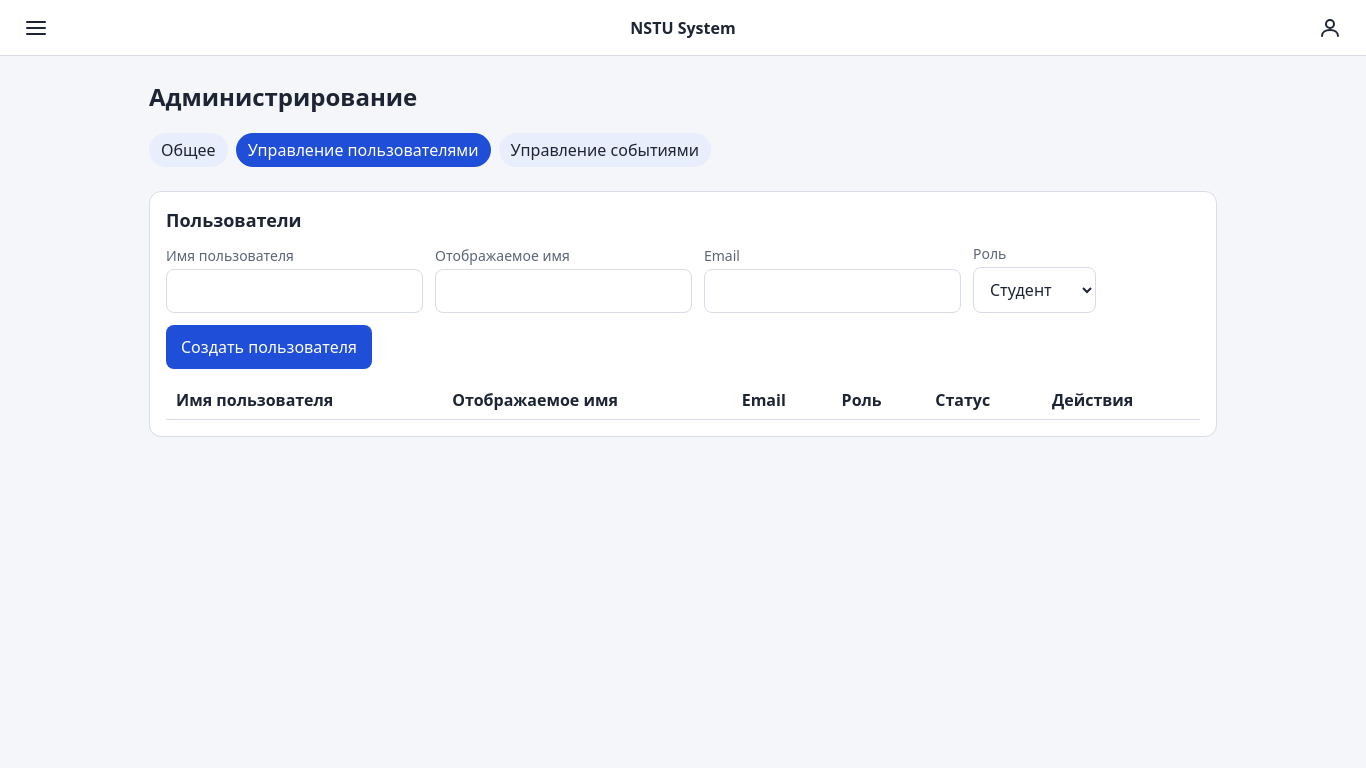
Test case: раздел «Администрирование» › создание пользователя показывает temporaryPassword один раз
Expected: the heading "Администрирование" is shown, [149,80,417,113]
Type "staff1" into the field labelled "Имя пользователя".
click(294, 291); type("staff1")  # box [166,269,423,313]
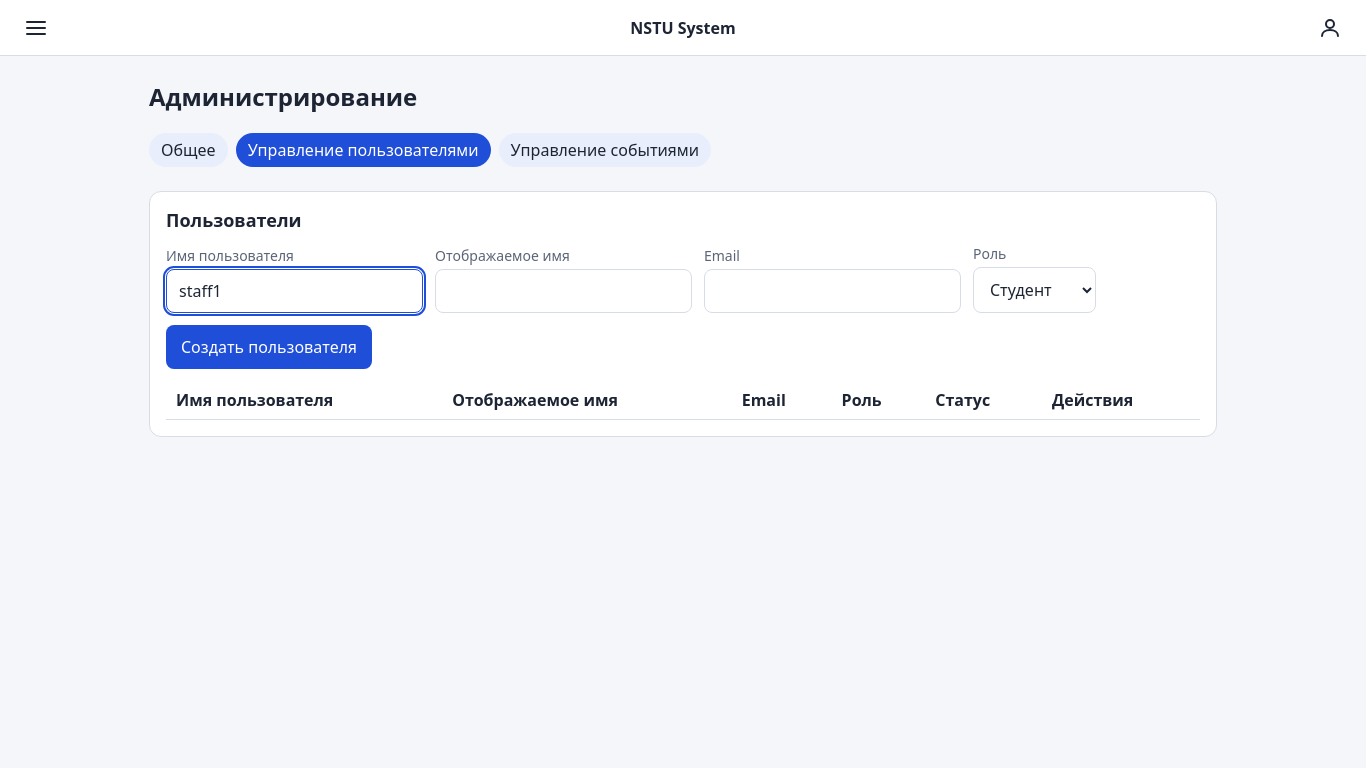
Type "Стафф Иванов" into the field labelled "Отображаемое имя".
click(564, 291); type("Стафф Иванов")  # box [435,269,692,313]
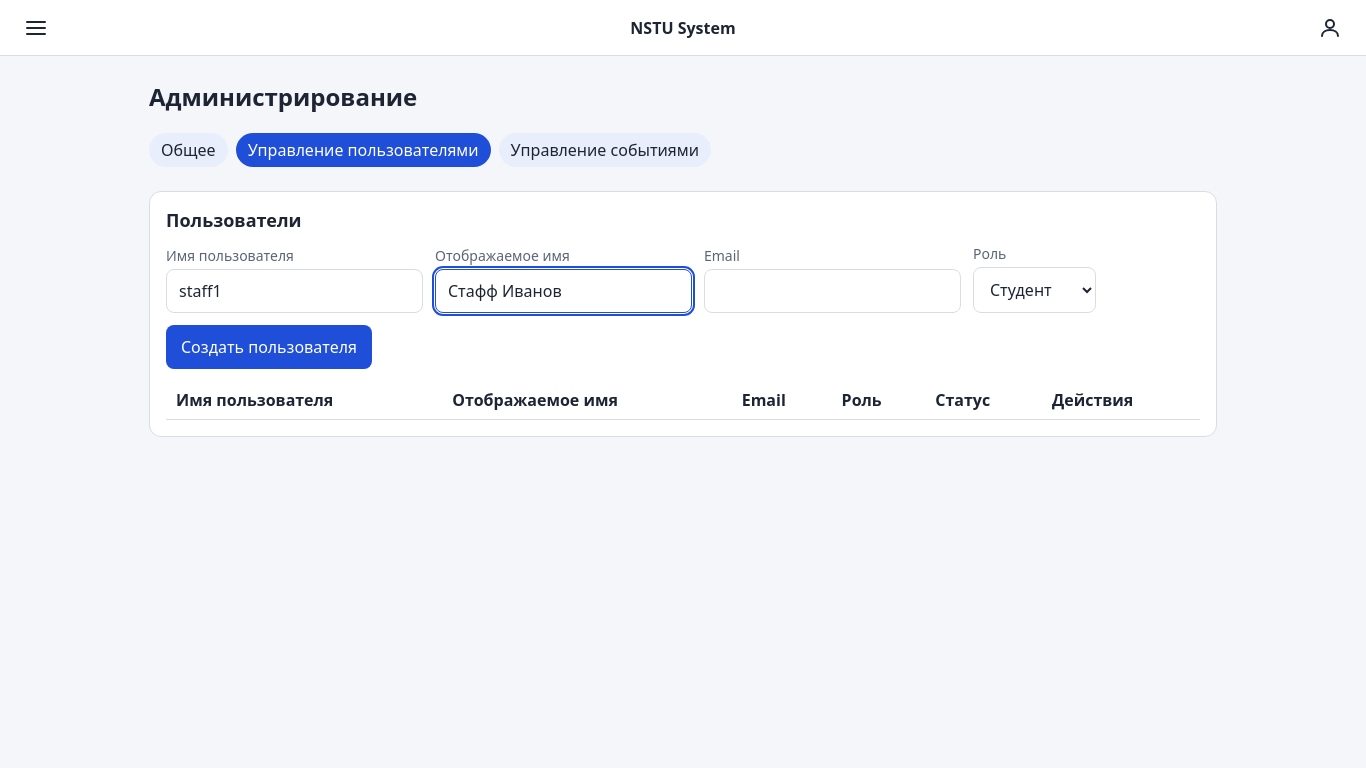
Click the button "Создать пользователя".
click(269, 347)  # box [166,325,372,369]
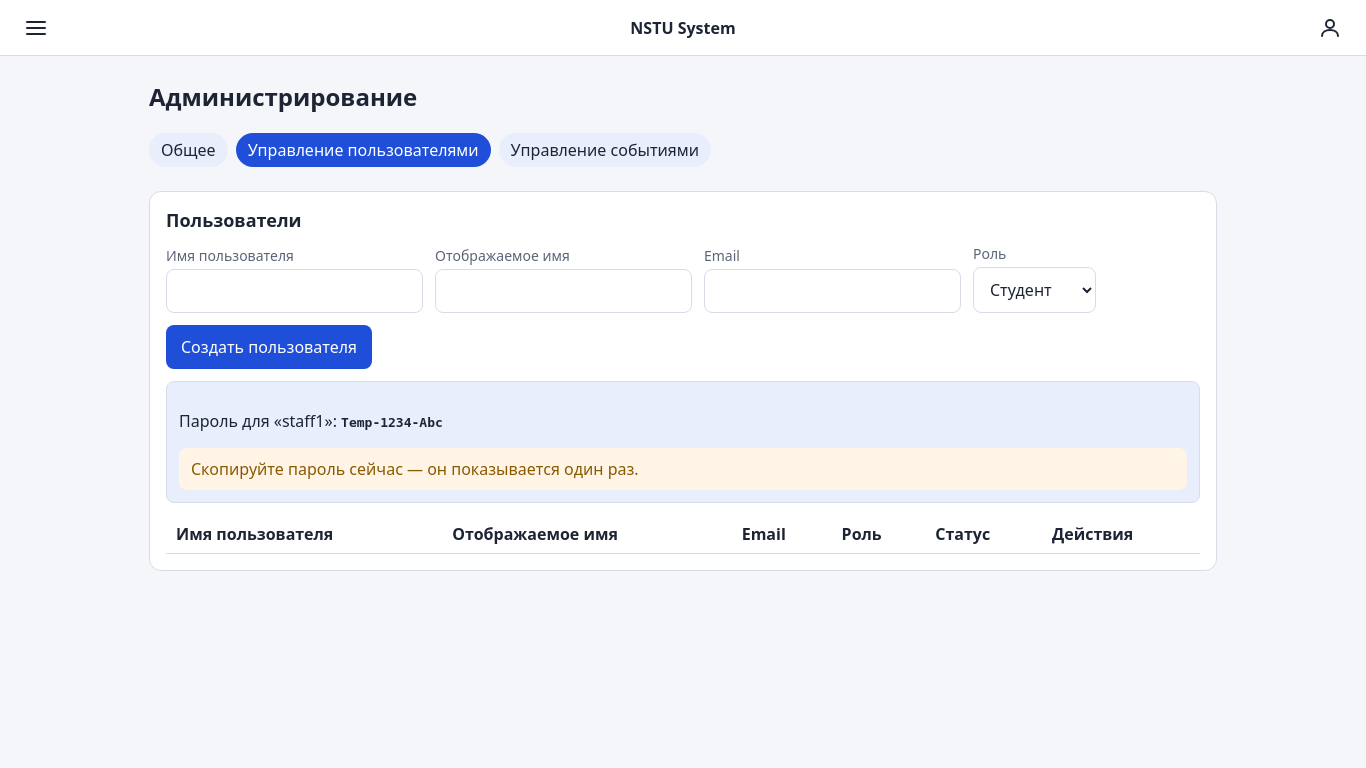
Now the element with test id "created-password" shows "Temp-1234-Abc", box [341,415,443,430]
Now the element with test id "created-password" shows "показывается один раз", box [191,458,639,480]
